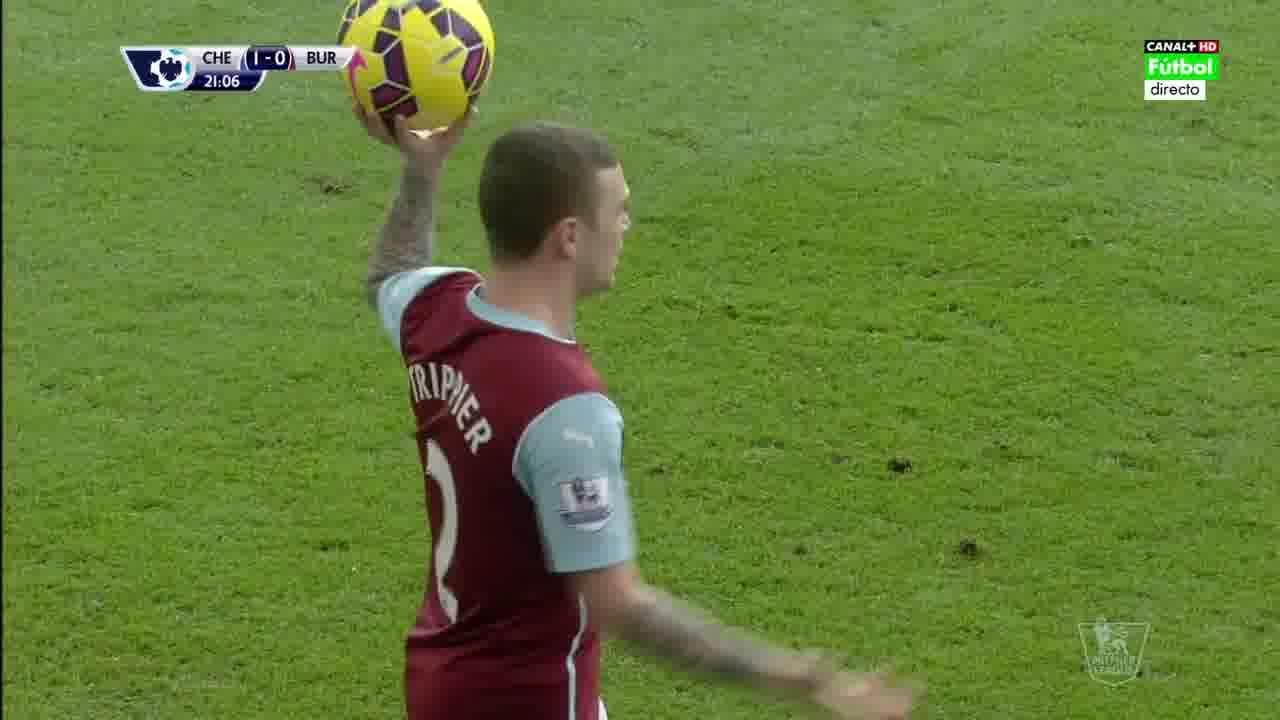football: (335, 0, 492, 123)
